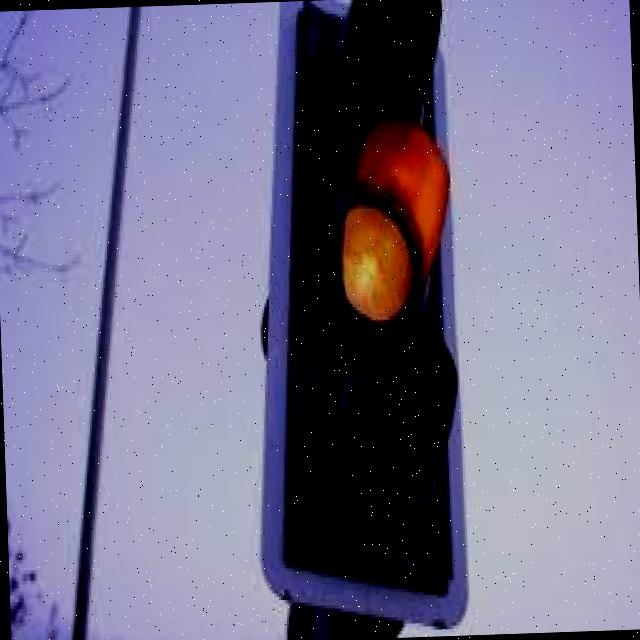yellow_light: (287, 0, 466, 600)
